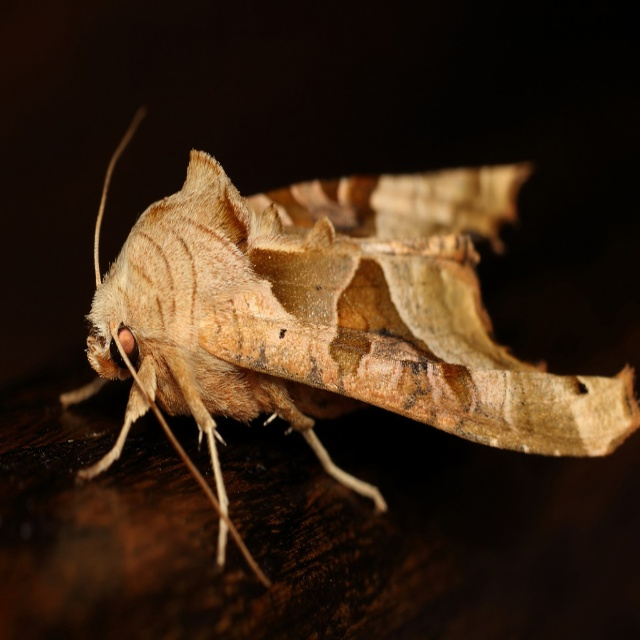Moths and butterflies: (57, 112, 639, 582)
